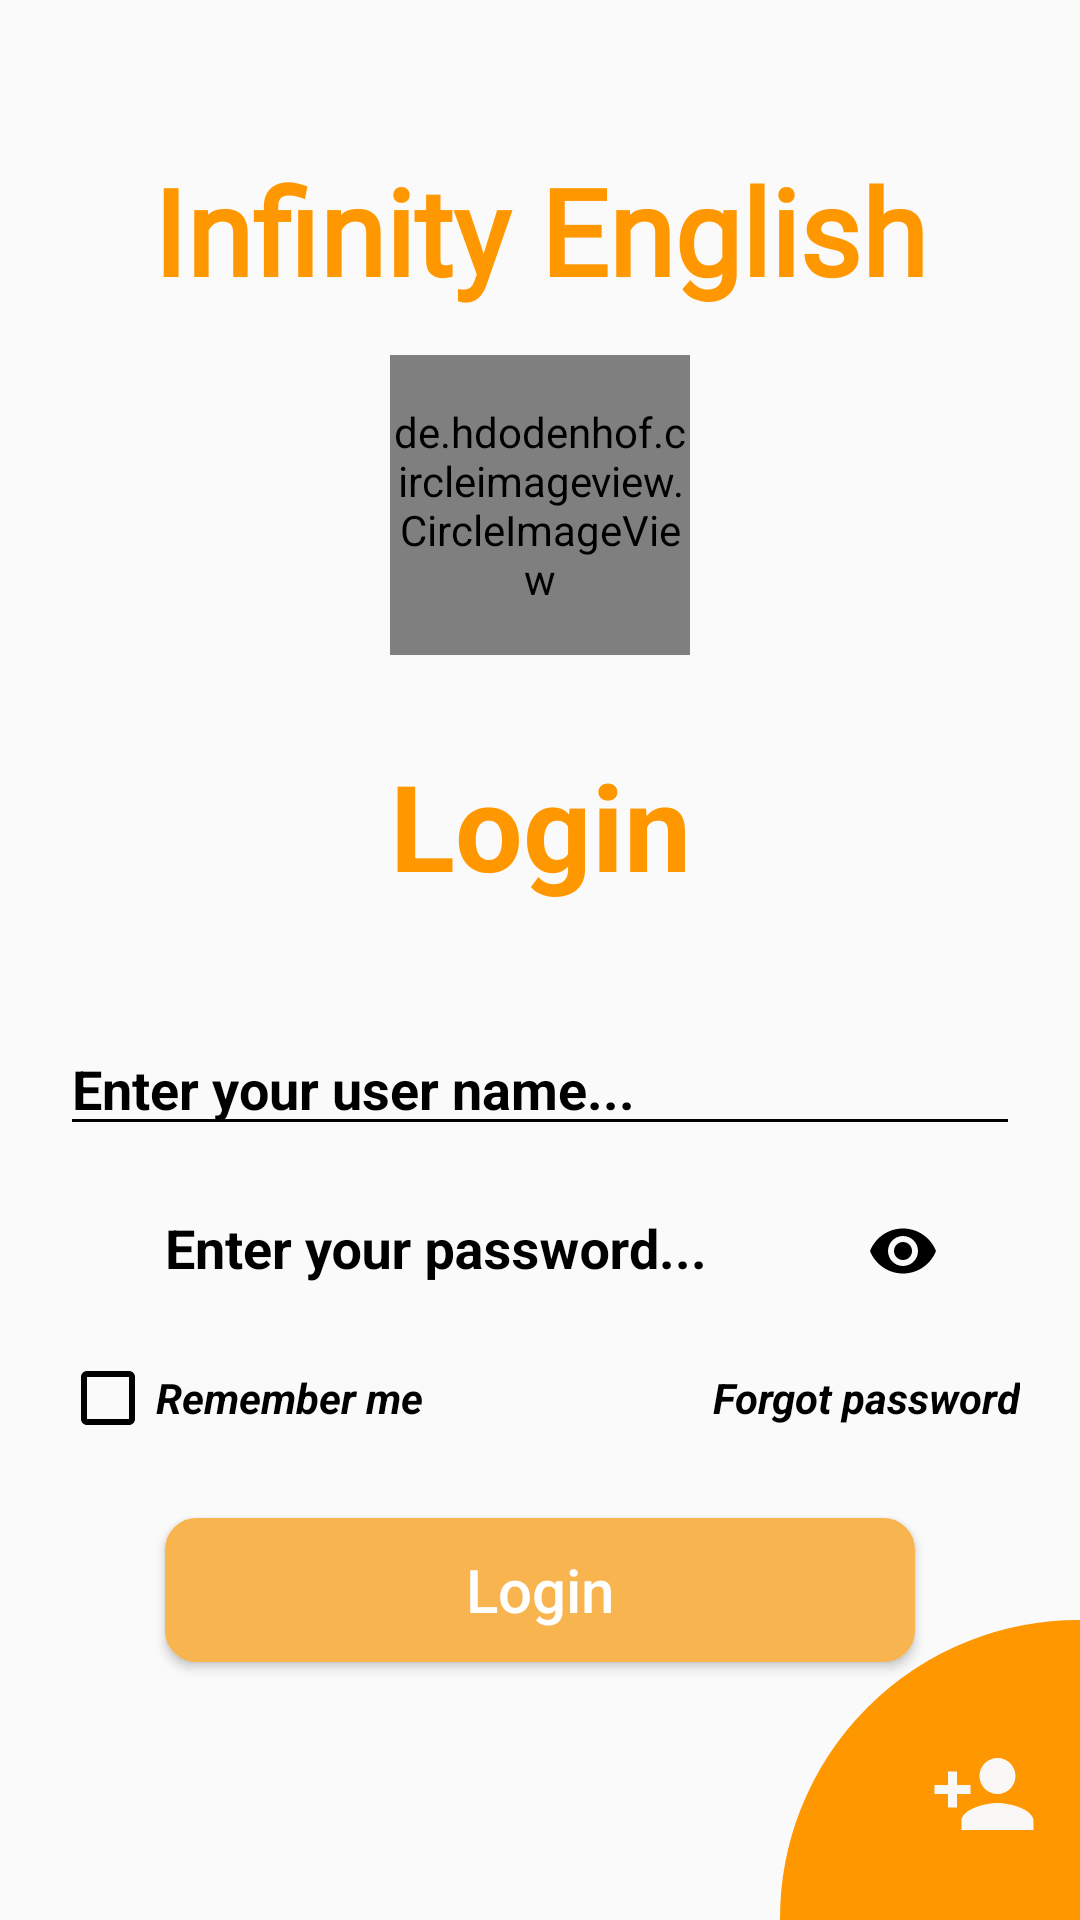

Locate icon controls on the screen. Image size 1080px x 1920px, boxes as (x1, y1, x2, y2).
person add: (934, 1758, 1034, 1830)
